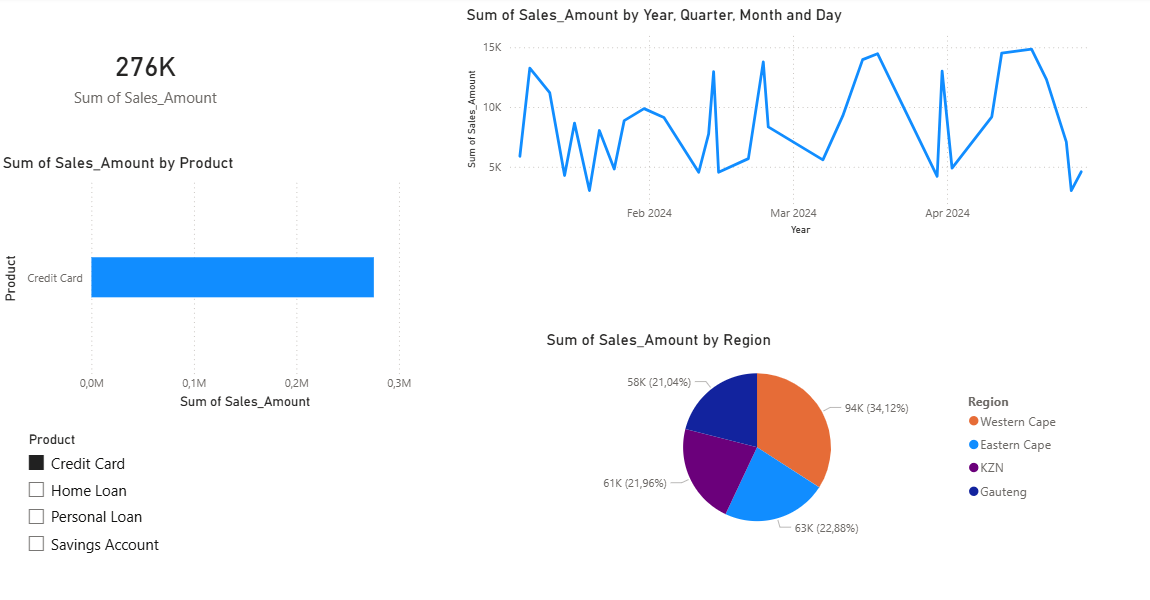

This screenshot's page, from the dashboard's own definition file:
{"tool":"powerbi","page":{"name":"Page 1","canvas":[1280,720],"ordinal":0},"visuals":[{"type":"card","fields":{"Values":["Sum(beginner_bi_bank_sales_dataset.Sales_Amount)"]},"box":[9.4,0,298.9,169.6],"z":0},{"type":"clusteredBarChart","fields":{"Category":["beginner_bi_bank_sales_dataset.Product"],"Y":["Sum(beginner_bi_bank_sales_dataset.Sales_Amount)"]},"box":[0,169.6,451,280],"z":1000},{"type":"lineChart","fields":{"Category":["beginner_bi_bank_sales_dataset.Date.Variation.Date Hierarchy.Year","beginner_bi_bank_sales_dataset.Date.Variation.Date Hierarchy.Quarter","beginner_bi_bank_sales_dataset.Date.Variation.Date Hierarchy.Month","beginner_bi_bank_sales_dataset.Date.Variation.Date Hierarchy.Day"],"Y":["Sum(beginner_bi_bank_sales_dataset.Sales_Amount)"]},"box":[499.5,9.4,697.4,253.1],"z":2000},{"type":"pieChart","fields":{"Category":["beginner_bi_bank_sales_dataset.Region"],"Y":["Sum(beginner_bi_bank_sales_dataset.Sales_Amount)"]},"box":[585.6,359.4,568.1,234.2],"z":3000},{"type":"slicer","fields":{"Values":["beginner_bi_bank_sales_dataset.Product"]},"box":[20.2,464.5,451,227.5],"z":4000}]}

Visuals, with their boxes on the page's 1280x720 design canvas (x1, y1, x2, y2). These are canvas units, not pixel positions in the 1150x600 screenshot, which may show the page scaled, cropped or inside an application window:
card - Sum(beginner_bi_bank_sales_dataset.Sales_Amount): BBox(9, 0, 308, 170)
clusteredBarChart - beginner_bi_bank_sales_dataset.Product x Sum(beginner_bi_bank_sales_dataset.Sales_Amount): BBox(0, 170, 451, 450)
lineChart - beginner_bi_bank_sales_dataset.Date.Variation.Date Hierarchy.Year x beginner_bi_bank_sales_dataset.Date.Variation.Date Hierarchy.Quarter: BBox(500, 9, 1197, 262)
pieChart - beginner_bi_bank_sales_dataset.Region x Sum(beginner_bi_bank_sales_dataset.Sales_Amount): BBox(586, 359, 1154, 594)
slicer - beginner_bi_bank_sales_dataset.Product: BBox(20, 464, 471, 692)
